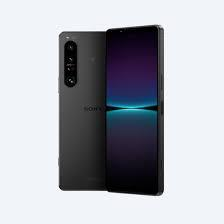Smartphone: (106, 17, 163, 203), (56, 26, 110, 200)
